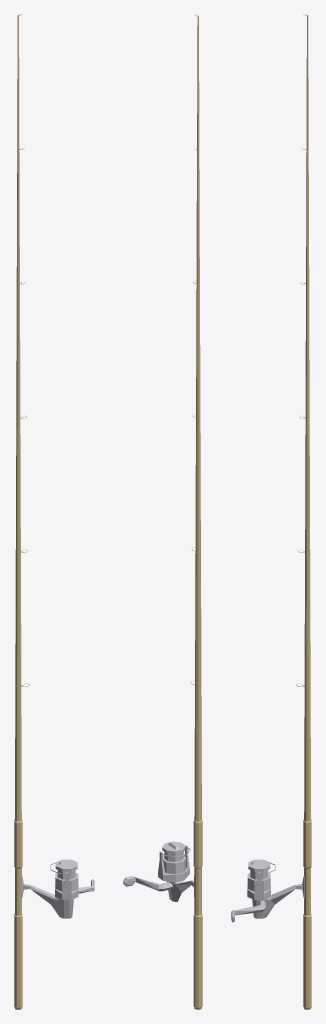
Rendered from rod-bamboo.glb.
3 views of the same model, side by side, from view 1: azimuth 90°, elevation 25°; view 2: azimuth 210°, elevation 25°; view 3: azimuth 270°, elevation 25° (orthographic).
Parts seen in each view (by area): view 1: RodBambooExport, reel, rotor; view 2: RodBambooExport, reel, rotor, handle; view 3: RodBambooExport, reel, rotor, handle.
Part boxes in pixels (x1=…): RodBambooExport: x1=14, y1=14, x2=29, y2=1009; reel: x1=21, y1=859, x2=78, y2=918; rotor: x1=50, y1=862, x2=78, y2=899; RodBambooExport: x1=190, y1=14, x2=202, y2=1009; reel: x1=162, y1=841, x2=194, y2=902; rotor: x1=158, y1=845, x2=190, y2=882; handle: x1=134, y1=877, x2=172, y2=891; RodBambooExport: x1=296, y1=14, x2=311, y2=1009; reel: x1=247, y1=859, x2=304, y2=918; rotor: x1=247, y1=862, x2=275, y2=899; handle: x1=231, y1=900, x2=265, y2=915.
Bounding box in the file's own units: 0.1551 × 2.9 × 0.2134.
